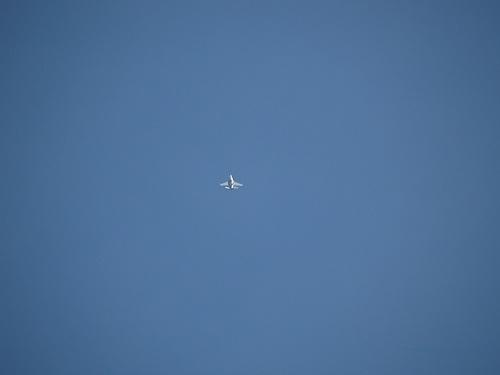aeroplane: (220, 176, 243, 191)
